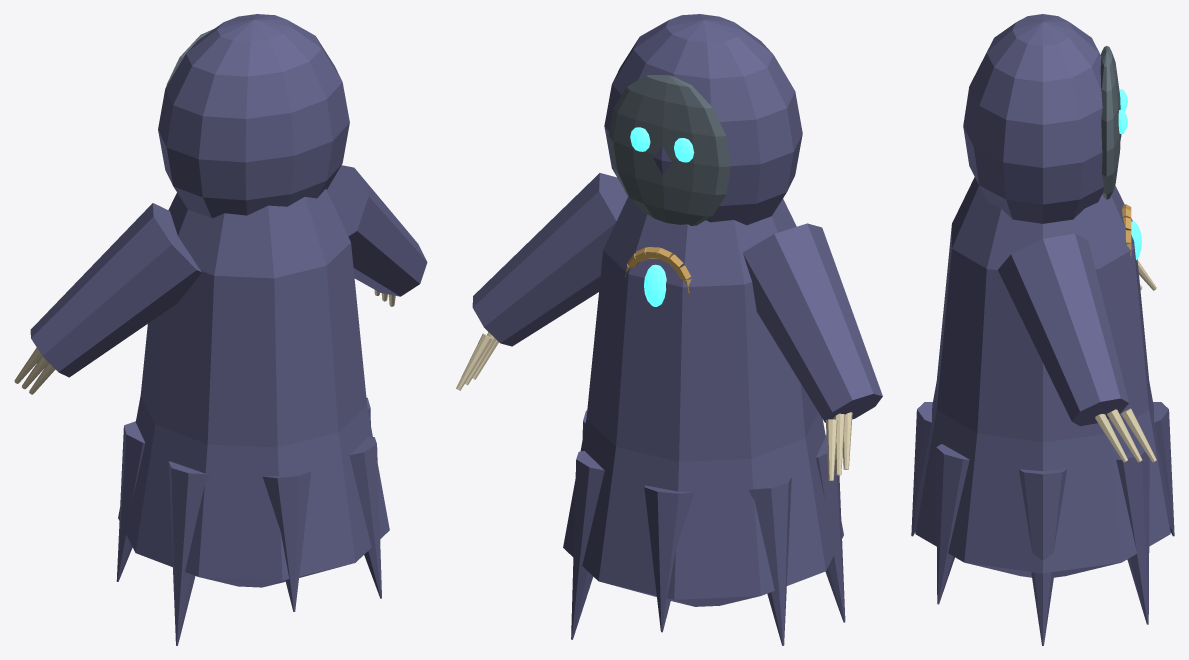
The picture shows the model from 3 angles, left to right: view 1: azimuth 30°, elevation 25°; view 2: azimuth 150°, elevation 25°; view 3: azimuth 270°, elevation 25°; orthographic projection. The views are drawn at different scales.
Parts seen in each view (by area): view 1: veil-wraith/body; view 2: veil-wraith/body; view 3: veil-wraith/body.
Boxes of the visible parts, x1,y1,x2,y2 form: veil-wraith/body: (14,14,427,645); veil-wraith/body: (456,14,882,645); veil-wraith/body: (911,14,1174,645).
Size of the model in its own units: 1.37 by 1.96 by 0.8248.
